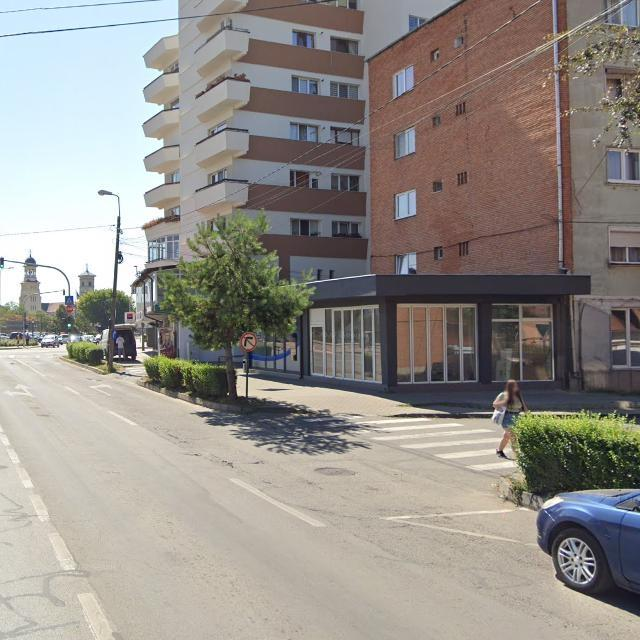info_crosswalk: (65, 296, 75, 306)
